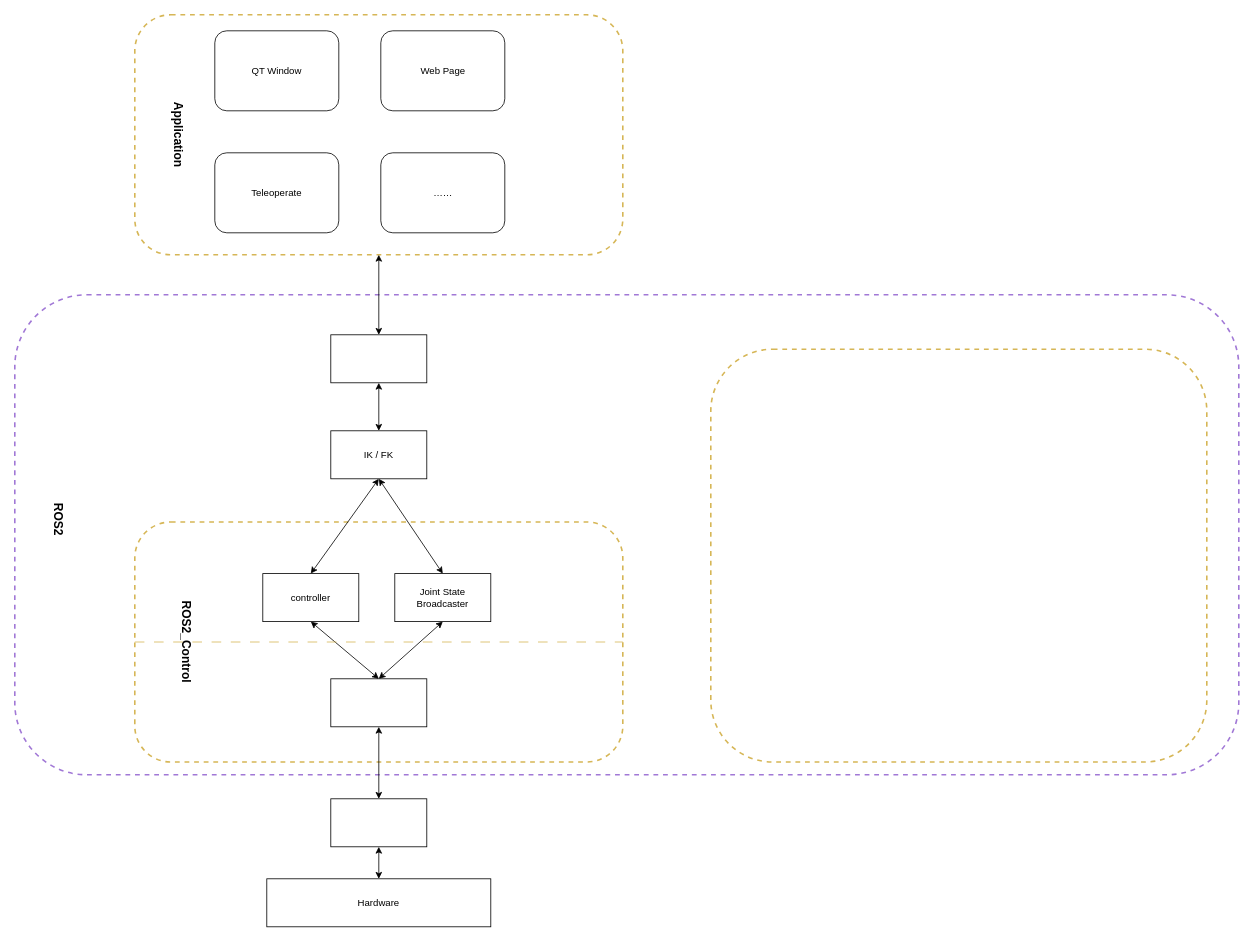
The diagram is 1253 pixels wide and 941 high, and some of its shapes have lost their labels. Here are the shapes that lost their labels. From the top down, the centre of each, then its label:
point (378, 358): Execution
point (958, 555): Gazebo_Sim
point (378, 702): hw_interface
point (378, 822): hw_driver
